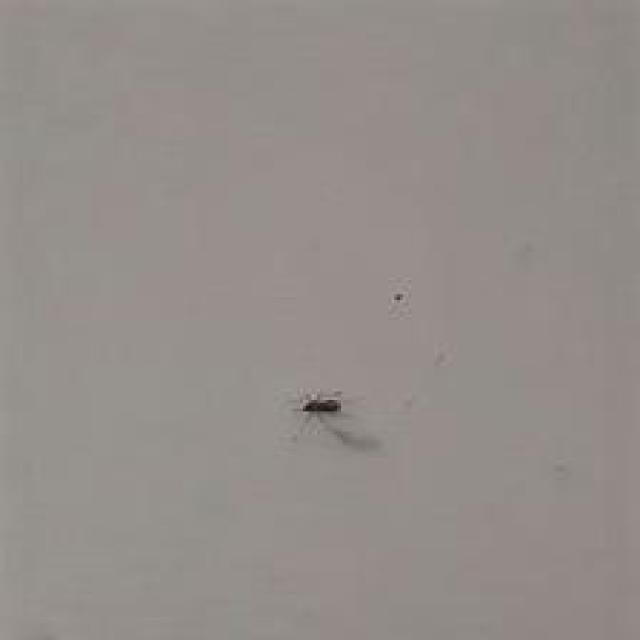Culex: (298, 392, 342, 414)
